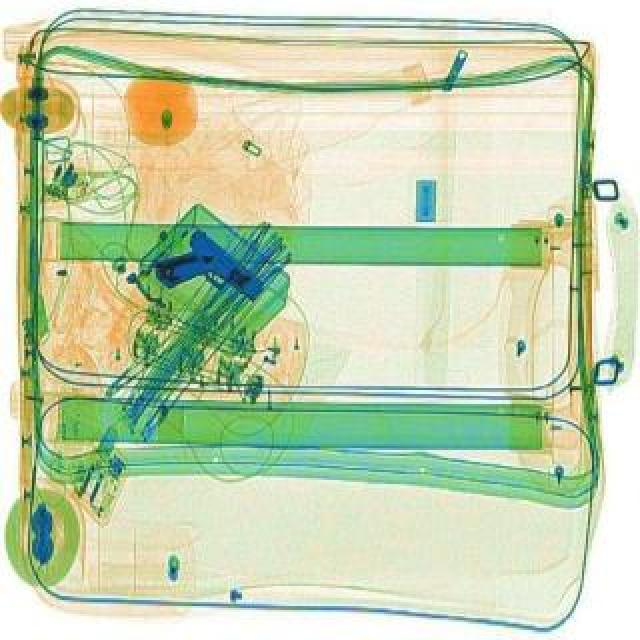gun: (146, 226, 270, 338)
